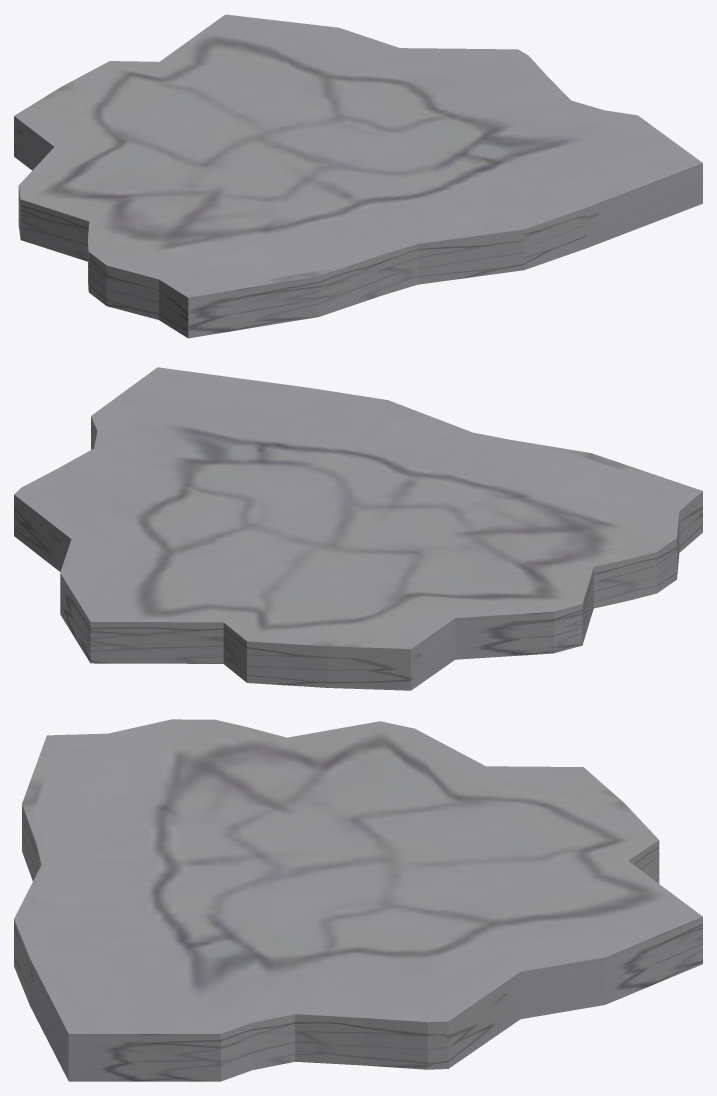
Rendered from egg.glb.
3 views of the same model, one above another, from view 1: azimuth 30°, elevation 25°; view 2: azimuth 150°, elevation 25°; view 3: azimuth 270°, elevation 25° (orthographic). The views are drawn at different scales.
Parts seen in each view (by area): view 1: Cube; view 2: Cube; view 3: Cube.
Boxes of the visible parts, <box> form: Cube: <box>14,14,702,338</box>; Cube: <box>14,367,702,690</box>; Cube: <box>14,719,702,1081</box>.
Size of the model in its own units: 2.84 by 0.2 by 2.63.
Materials: 1 (1 with a texture image).
